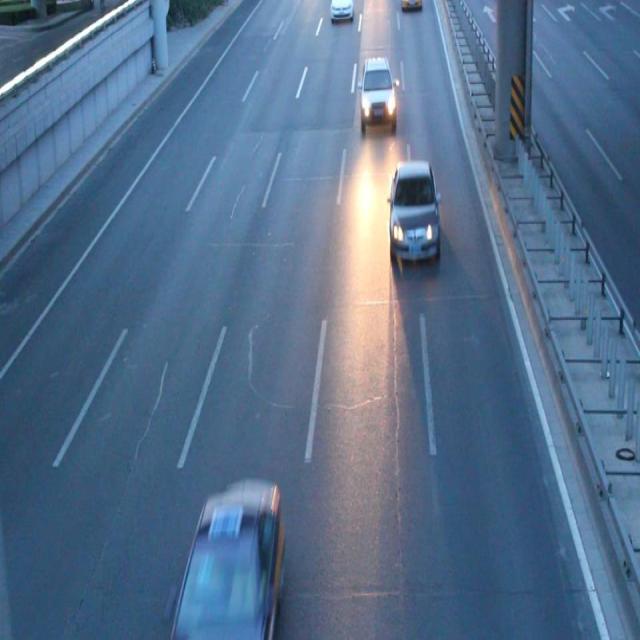car: (170, 486, 284, 640), (386, 160, 440, 264), (357, 58, 396, 128), (329, 1, 354, 20)
